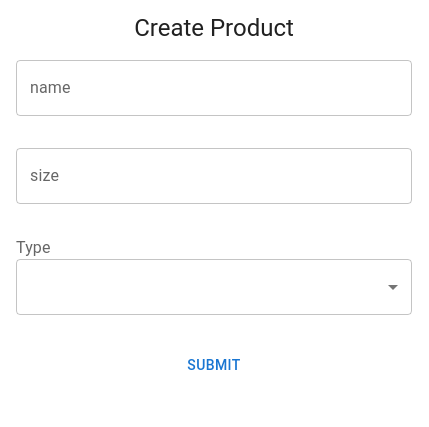
Scenario: when the user submit the form properly and the server returns created status › the form page must display the success message "Product stored" and clean fields values
The width and height of the screenshot is (429, 427).
Type "my product" into the field labelled "name".
click(214, 88); type("my product")  # box [16,60,412,116]
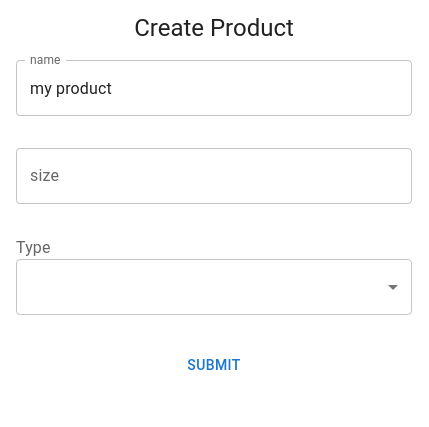
Type "10" into the field labelled "size".
click(214, 176); type("10")  # box [16,148,412,204]
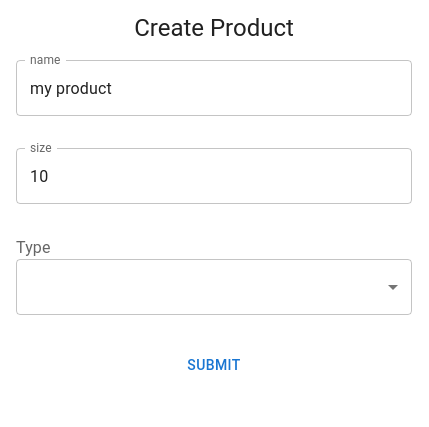
Select "Electronic" in the dropdown labelled "Type" at (214, 287), box [16,259,412,315]
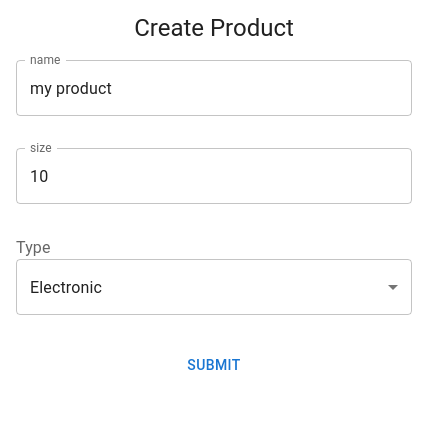
Click the button "Submit".
click(214, 365)  # box [16,347,412,384]
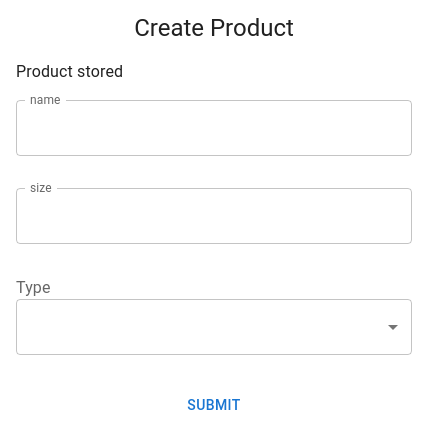
Result: the text "Product stored" is shown at [16,62,123,81]
Result: the field labelled "name" is empty at [16,100,412,156]
Result: the field labelled "size" is empty at [16,188,412,244]
